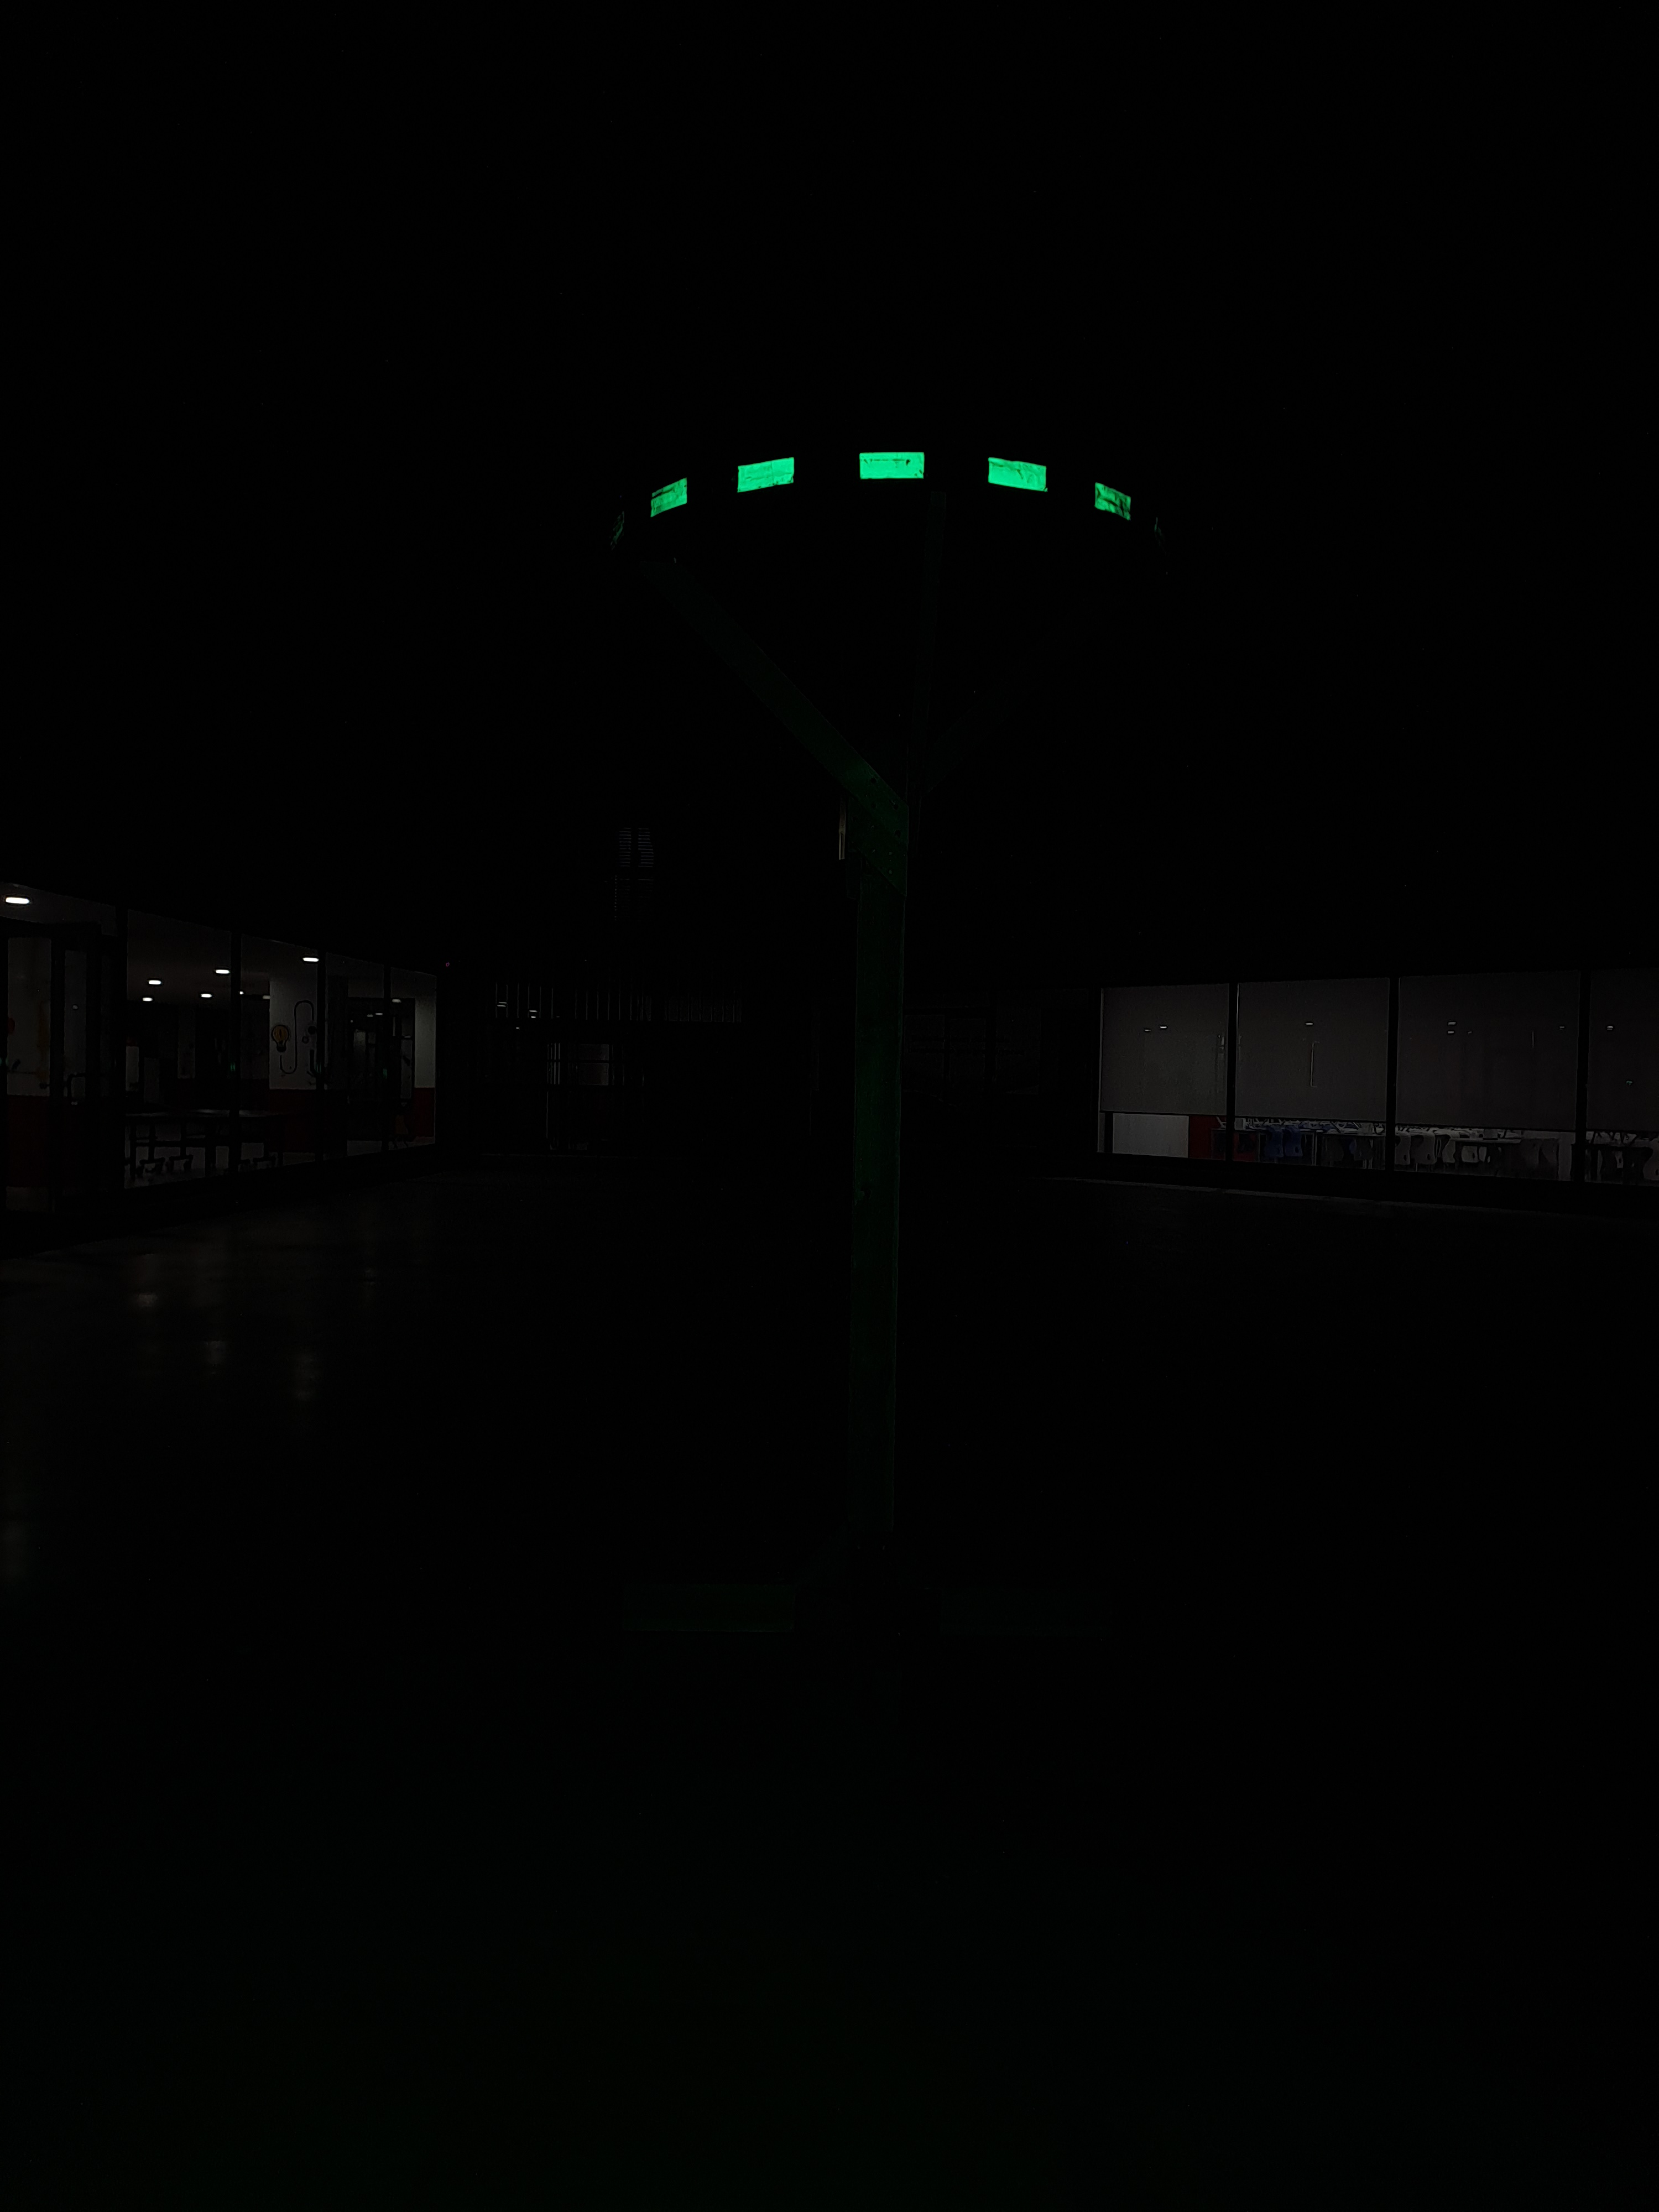hoop: (650, 444, 1134, 542)
